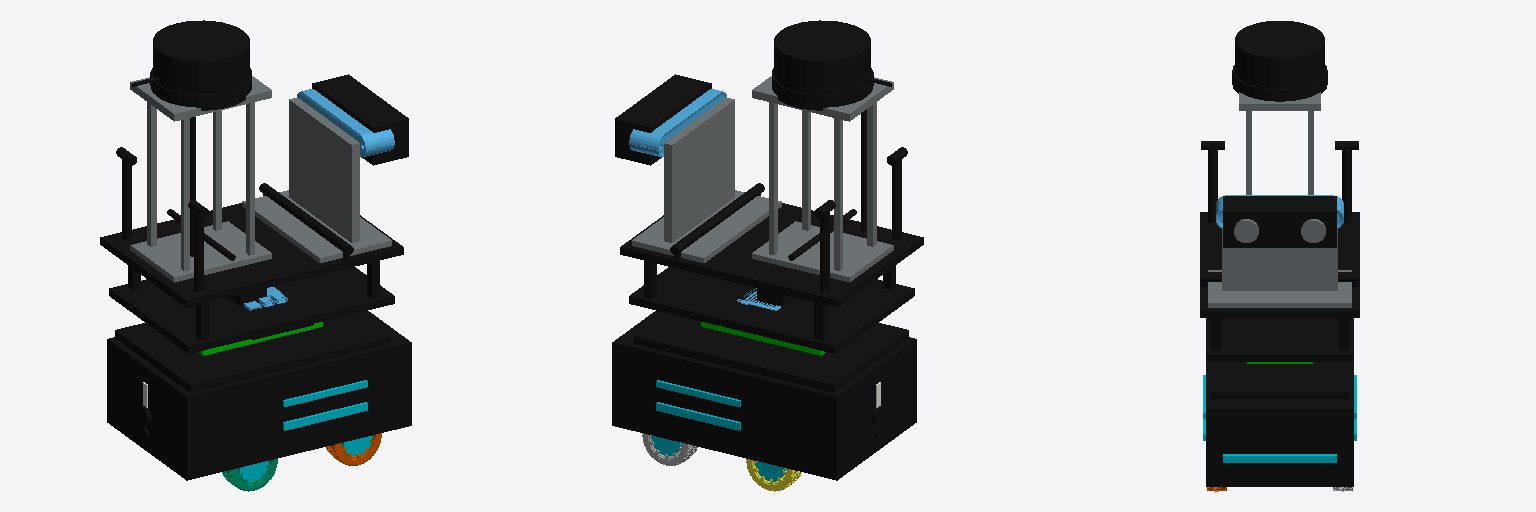
robot.urdf — wheeltec_v550_ackermann:
<?xml version="1.0" ?>
<robot name="wheeltec_v550_ackermann">
  <material name="dark">
    <color rgba="0.1 0.1 0.1 1.0"/>
  </material>
  <material name="green">
    <color rgba="0.0 0.8 0.0 1.0"/>
  </material>
  <material name="red">
    <color rgba="0.8 0.0 0.0 1.0"/>
  </material>
  <material name="mount_gray">
    <color rgba="0.48 0.50 0.51 1.0"/>
  </material>
  <material name="teal">
    <color rgba="0.0 0.78 0.86 1.0"/>
  </material>
  <material name="white_label">
    <color rgba="0.95 0.95 0.92 1.0"/>
  </material>
  <link name="base_footprint">
    <visual>
      <origin xyz="0 0 0" rpy="0 0 0"/>
      <geometry>
        <box size="0.001 0.001 0.001"/>
      </geometry>
    </visual>
  </link>
  <link name="base_link">
    <inertial>
      <origin xyz="-0.010 0 0.095" rpy="0 0 0"/>
      <mass value="12.0"/>
      <inertia ixx="0.18" ixy="0.0" ixz="0.0" iyy="0.24" iyz="0.0" izz="0.32"/>
    </inertial>
    <visual>
      <origin xyz="0 0 0.030" rpy="0 0 0"/>
      <geometry>
        <mesh filename="package://v550_ackermann_description/meshes/base_link.STL"/>
      </geometry>
      <material name="dark"/>
    </visual>
    <visual>
      <origin xyz="0.005 0 0.092" rpy="0 0 0"/>
      <geometry>
        <box size="0.310 0.190 0.110"/>
      </geometry>
      <material name="dark"/>
    </visual>
    <visual>
      <origin xyz="-0.005 0 0.274" rpy="0 0 0"/>
      <geometry>
        <box size="0.300 0.205 0.010"/>
      </geometry>
      <material name="dark"/>
    </visual>
    <visual>
      <origin xyz="0.115 0.082 0.240" rpy="0 0 0"/>
      <geometry>
        <box size="0.012 0.012 0.068"/>
      </geometry>
      <material name="dark"/>
    </visual>
    <visual>
      <origin xyz="0.115 -0.082 0.240" rpy="0 0 0"/>
      <geometry>
        <box size="0.012 0.012 0.068"/>
      </geometry>
      <material name="dark"/>
    </visual>
    <visual>
      <origin xyz="-0.120 0.082 0.240" rpy="0 0 0"/>
      <geometry>
        <box size="0.012 0.012 0.068"/>
      </geometry>
      <material name="dark"/>
    </visual>
    <visual>
      <origin xyz="-0.120 -0.082 0.240" rpy="0 0 0"/>
      <geometry>
        <box size="0.012 0.012 0.068"/>
      </geometry>
      <material name="dark"/>
    </visual>
    <visual>
      <origin xyz="0.040 -0.0965 0.078" rpy="0 0 0"/>
      <geometry>
        <box size="0.115 0.004 0.010"/>
      </geometry>
      <material name="teal"/>
    </visual>
    <visual>
      <origin xyz="0.040 0.0965 0.078" rpy="0 0 0"/>
      <geometry>
        <box size="0.115 0.004 0.010"/>
      </geometry>
      <material name="teal"/>
    </visual>
    <visual>
      <origin xyz="0.161 0 0.078" rpy="0 0 0"/>
      <geometry>
        <box size="0.006 0.145 0.010"/>
      </geometry>
      <material name="teal"/>
    </visual>
    <visual>
      <origin xyz="0.040 -0.0965 0.108" rpy="0 0 0"/>
      <geometry>
        <box size="0.115 0.004 0.008"/>
      </geometry>
      <material name="teal"/>
    </visual>
    <visual>
      <origin xyz="0.040 0.0965 0.108" rpy="0 0 0"/>
      <geometry>
        <box size="0.115 0.004 0.008"/>
      </geometry>
      <material name="teal"/>
    </visual>
    <visual>
      <origin xyz="-0.152 0 0.112" rpy="0 1.570796 0"/>
      <geometry>
        <box size="0.030 0.010 0.002"/>
      </geometry>
      <material name="white_label"/>
    </visual>
    <visual>
      <origin xyz="-0.153 0 0.085" rpy="0 1.570796 0"/>
      <geometry>
        <cylinder radius="0.012" length="0.006"/>
      </geometry>
      <material name="dark"/>
    </visual>
    <visual>
      <origin xyz="-0.153 0 0.062" rpy="0 1.570796 0"/>
      <geometry>
        <cylinder radius="0.007" length="0.004"/>
      </geometry>
      <material name="dark"/>
    </visual>
    <visual>
      <origin xyz="-0.005 0 0.154" rpy="0 0 0"/>
      <geometry>
        <box size="0.275 0.180 0.010"/>
      </geometry>
      <material name="dark"/>
    </visual>
    <visual>
      <origin xyz="0.105 0.072 0.135" rpy="0 0 0"/>
      <geometry>
        <box size="0.010 0.010 0.038"/>
      </geometry>
      <material name="dark"/>
    </visual>
    <visual>
      <origin xyz="0.105 -0.072 0.135" rpy="0 0 0"/>
      <geometry>
        <box size="0.010 0.010 0.038"/>
      </geometry>
      <material name="dark"/>
    </visual>
    <visual>
      <origin xyz="-0.105 0.072 0.135" rpy="0 0 0"/>
      <geometry>
        <box size="0.010 0.010 0.038"/>
      </geometry>
      <material name="dark"/>
    </visual>
    <visual>
      <origin xyz="-0.105 -0.072 0.135" rpy="0 0 0"/>
      <geometry>
        <box size="0.010 0.010 0.038"/>
      </geometry>
      <material name="dark"/>
    </visual>
    <visual>
      <origin xyz="-0.015 0 0.180" rpy="0 0 0"/>
      <geometry>
        <box size="0.165 0.085 0.024"/>
      </geometry>
      <material name="green"/>
    </visual>
    <visual>
      <origin xyz="0.010 -0.044 0.180" rpy="0 0 0"/>
      <geometry>
        <box size="0.085 0.006 0.010"/>
      </geometry>
      <material name="dark"/>
    </visual>
    <visual>
      <origin xyz="-0.020 0 0.205" rpy="0 0 0"/>
      <geometry>
        <box size="0.035 0.060 0.085"/>
      </geometry>
      <material name="dark"/>
    </visual>
    <visual>
      <origin xyz="-0.128 0.086 0.330" rpy="0 0 0"/>
      <geometry>
        <cylinder radius="0.006" length="0.105"/>
      </geometry>
      <material name="dark"/>
    </visual>
    <visual>
      <origin xyz="-0.128 0.086 0.386" rpy="1.570796 0 0"/>
      <geometry>
        <cylinder radius="0.006" length="0.030"/>
      </geometry>
      <material name="dark"/>
    </visual>
    <visual>
      <origin xyz="-0.128 -0.086 0.330" rpy="0 0 0"/>
      <geometry>
        <cylinder radius="0.006" length="0.105"/>
      </geometry>
      <material name="dark"/>
    </visual>
    <visual>
      <origin xyz="-0.128 -0.086 0.386" rpy="1.570796 0 0"/>
      <geometry>
        <cylinder radius="0.006" length="0.030"/>
      </geometry>
      <material name="dark"/>
    </visual>
    <visual>
      <origin xyz="-0.075 0 0.305" rpy="1.570796 0 0"/>
      <geometry>
        <cylinder radius="0.004" length="0.150"/>
      </geometry>
      <material name="dark"/>
    </visual>
    <visual>
      <origin xyz="-0.110 -0.040 0.400" rpy="0 0 0"/>
      <geometry>
        <cylinder radius="0.004" length="0.195"/>
      </geometry>
      <material name="dark"/>
    </visual>
    <visual>
      <origin xyz="0.070 0 0.292" rpy="1.570796 0 0"/>
      <geometry>
        <cylinder radius="0.006" length="0.205"/>
      </geometry>
      <material name="dark"/>
    </visual>
    <visual>
      <origin xyz="0.070 0.096 0.282" rpy="0 0 0"/>
      <geometry>
        <cylinder radius="0.004" length="0.028"/>
      </geometry>
      <material name="dark"/>
    </visual>
    <visual>
      <origin xyz="0.070 -0.096 0.282" rpy="0 0 0"/>
      <geometry>
        <cylinder radius="0.004" length="0.028"/>
      </geometry>
      <material name="dark"/>
    </visual>
    <visual>
      <origin xyz="-0.075 0 0.530" rpy="0 0 0"/>
      <geometry>
        <mesh filename="package://v550_ackermann_description/meshes/laser_link.STL"/>
      </geometry>
      <material name="dark"/>
    </visual>
    <visual>
      <origin xyz="-0.075 0 0.282" rpy="0 0 0"/>
      <geometry>
        <box size="0.135 0.105 0.008"/>
      </geometry>
      <material name="mount_gray"/>
    </visual>
    <visual>
      <origin xyz="-0.030 0.040 0.390" rpy="0 0 0"/>
      <geometry>
        <box size="0.008 0.008 0.210"/>
      </geometry>
      <material name="mount_gray"/>
    </visual>
    <visual>
      <origin xyz="-0.030 -0.040 0.390" rpy="0 0 0"/>
      <geometry>
        <box size="0.008 0.008 0.210"/>
      </geometry>
      <material name="mount_gray"/>
    </visual>
    <visual>
      <origin xyz="-0.120 0.040 0.390" rpy="0 0 0"/>
      <geometry>
        <box size="0.008 0.008 0.210"/>
      </geometry>
      <material name="mount_gray"/>
    </visual>
    <visual>
      <origin xyz="-0.120 -0.040 0.390" rpy="0 0 0"/>
      <geometry>
        <box size="0.008 0.008 0.210"/>
      </geometry>
      <material name="mount_gray"/>
    </visual>
    <visual>
      <origin xyz="-0.075 0 0.496" rpy="0 0 0"/>
      <geometry>
        <box size="0.135 0.105 0.010"/>
      </geometry>
      <material name="mount_gray"/>
    </visual>
    <visual>
      <origin xyz="0.085 0 0.282" rpy="0 0 0"/>
      <geometry>
        <box size="0.100 0.185 0.008"/>
      </geometry>
      <material name="mount_gray"/>
    </visual>
    <visual>
      <origin xyz="0.095 0 0.350" rpy="0 0 0"/>
      <geometry>
        <box size="0.012 0.150 0.130"/>
      </geometry>
      <material name="mount_gray"/>
    </visual>
    <visual>
      <origin xyz="0.125 0 0.405" rpy="0 0 0"/>
      <geometry>
        <mesh filename="package://v550_ackermann_description/meshes/camera_link.STL"/>
      </geometry>
    </visual>
    <visual>
      <origin xyz="-0.035 -0.020 0.192" rpy="0 0 0"/>
      <geometry>
        <mesh filename="package://v550_ackermann_description/meshes/controller_link.STL"/>
      </geometry>
    </visual>
    <visual>
      <origin xyz="-0.005 0 0.208" rpy="0 0 0"/>
      <geometry>
        <box size="0.285 0.190 0.010"/>
      </geometry>
      <material name="dark"/>
    </visual>
    <visual>
      <origin xyz="0.145 0 0.405" rpy="0 0 0"/>
      <geometry>
        <box size="0.050 0.145 0.050"/>
      </geometry>
      <material name="dark"/>
    </visual>
    <visual>
      <origin xyz="0.172 0.043 0.405" rpy="0 1.570796 0"/>
      <geometry>
        <cylinder radius="0.016" length="0.008"/>
      </geometry>
      <material name="mount_gray"/>
    </visual>
    <visual>
      <origin xyz="0.172 -0.043 0.405" rpy="0 1.570796 0"/>
      <geometry>
        <cylinder radius="0.016" length="0.008"/>
      </geometry>
      <material name="mount_gray"/>
    </visual>
    <visual>
      <origin xyz="-0.075 0 0.507" rpy="0 0 0"/>
      <geometry>
        <cylinder radius="0.061" length="0.020"/>
      </geometry>
      <material name="dark"/>
    </visual>
    <visual>
      <origin xyz="-0.075 0 0.538" rpy="0 0 0"/>
      <geometry>
        <cylinder radius="0.058" length="0.045"/>
      </geometry>
      <material name="dark"/>
    </visual>
    <collision>
      <origin xyz="0.005 0 0.107" rpy="0 0 0"/>
      <geometry>
        <box size="0.310 0.190 0.080"/>
      </geometry>
    </collision>
    <collision>
      <origin xyz="0.005 0 0.067" rpy="0 0 0"/>
      <geometry>
        <box size="0.310 0.100 0.050"/>
      </geometry>
    </collision>
  </link>
  <link name="rb_wheel_link">
    <inertial>
      <mass value="0.2"/>
      <inertia ixx="0.0001" ixy="0.0" ixz="0.0" iyy="0.0002" iyz="0.0" izz="0.0001"/>
    </inertial>
    <visual>
      <origin xyz="0 0 0" rpy="0 0 0"/>
      <geometry>
        <mesh filename="package://v550_ackermann_description/meshes/rb_wheel_link.STL"/>
      </geometry>
    </visual>
    <visual>
      <origin xyz="0 -0.011 0" rpy="1.570796 0 0"/>
      <geometry>
        <cylinder radius="0.020" length="0.004"/>
      </geometry>
      <material name="teal"/>
    </visual>
    <collision>
      <origin xyz="0 0 0" rpy="1.570796 0 0"/>
      <geometry>
        <cylinder radius="0.0332" length="0.026"/>
      </geometry>
    </collision>
  </link>
  <link name="lb_wheel_link">
    <inertial>
      <mass value="0.2"/>
      <inertia ixx="0.0001" ixy="0.0" ixz="0.0" iyy="0.0002" iyz="0.0" izz="0.0001"/>
    </inertial>
    <visual>
      <origin xyz="0 0 0" rpy="0 0 0"/>
      <geometry>
        <mesh filename="package://v550_ackermann_description/meshes/lb_wheel_link.STL"/>
      </geometry>
    </visual>
    <visual>
      <origin xyz="0 0.011 0" rpy="1.570796 0 0"/>
      <geometry>
        <cylinder radius="0.020" length="0.004"/>
      </geometry>
      <material name="teal"/>
    </visual>
    <collision>
      <origin xyz="0 0 0" rpy="1.570796 0 0"/>
      <geometry>
        <cylinder radius="0.0332" length="0.026"/>
      </geometry>
    </collision>
  </link>
  <link name="rf_steer_link">
    <inertial>
      <mass value="0.10"/>
      <inertia ixx="0.00005" ixy="0.0" ixz="0.0" iyy="0.00005" iyz="0.0" izz="0.00005"/>
    </inertial>
    <visual>
      <origin xyz="0 0 0" rpy="0 0 0"/>
      <geometry>
        <sphere radius="0.001"/>
      </geometry>
      <material name="dark"/>
    </visual>
  </link>
  <link name="rf_wheel_link">
    <inertial>
      <mass value="0.2"/>
      <inertia ixx="0.0001" ixy="0.0" ixz="0.0" iyy="0.0002" iyz="0.0" izz="0.0001"/>
    </inertial>
    <visual>
      <origin xyz="0 0 0" rpy="0 0 0"/>
      <geometry>
        <mesh filename="package://v550_ackermann_description/meshes/rf_wheel_link.STL"/>
      </geometry>
    </visual>
    <visual>
      <origin xyz="0 -0.011 0" rpy="1.570796 0 0"/>
      <geometry>
        <cylinder radius="0.020" length="0.004"/>
      </geometry>
      <material name="teal"/>
    </visual>
    <collision>
      <origin xyz="0 0 0" rpy="1.570796 0 0"/>
      <geometry>
        <cylinder radius="0.0332" length="0.026"/>
      </geometry>
    </collision>
  </link>
  <link name="lf_steer_link">
    <inertial>
      <mass value="0.10"/>
      <inertia ixx="0.00005" ixy="0.0" ixz="0.0" iyy="0.00005" iyz="0.0" izz="0.00005"/>
    </inertial>
    <visual>
      <origin xyz="0 0 0" rpy="0 0 0"/>
      <geometry>
        <sphere radius="0.001"/>
      </geometry>
      <material name="dark"/>
    </visual>
  </link>
  <link name="lf_wheel_link">
    <inertial>
      <mass value="0.2"/>
      <inertia ixx="0.0001" ixy="0.0" ixz="0.0" iyy="0.0002" iyz="0.0" izz="0.0001"/>
    </inertial>
    <visual>
      <origin xyz="0 0 0" rpy="0 0 0"/>
      <geometry>
        <mesh filename="package://v550_ackermann_description/meshes/lf_wheel_link.STL"/>
      </geometry>
    </visual>
    <visual>
      <origin xyz="0 0.011 0" rpy="1.570796 0 0"/>
      <geometry>
        <cylinder radius="0.020" length="0.004"/>
      </geometry>
      <material name="teal"/>
    </visual>
    <collision>
      <origin xyz="0 0 0" rpy="1.570796 0 0"/>
      <geometry>
        <cylinder radius="0.0332" length="0.026"/>
      </geometry>
    </collision>
  </link>
  <joint name="base_joint" type="fixed">
    <parent link="base_footprint"/>
    <child link="base_link"/>
    <origin xyz="0.0000 0.0000 0.0000" rpy="0 0 0"/>
  </joint>
  <joint name="rb_wheel_joint" type="continuous">
    <limit effort="8.0" velocity="45.0"/>
    <dynamics damping="0.08" friction="0.005"/>
    <parent link="base_link"/>
    <child link="rb_wheel_link"/>
    <origin xyz="-0.05574 -0.08000 0.03320" rpy="0 0 0"/>
    <axis xyz="0 1 0"/>
  </joint>
  <joint name="lb_wheel_joint" type="continuous">
    <limit effort="8.0" velocity="45.0"/>
    <dynamics damping="0.08" friction="0.005"/>
    <parent link="base_link"/>
    <child link="lb_wheel_link"/>
    <origin xyz="-0.05574 0.08000 0.03320" rpy="0 0 0"/>
    <axis xyz="0 1 0"/>
  </joint>
  <joint name="rf_steer_joint" type="revolute">
    <limit lower="-0.45" upper="0.45" effort="8.0" velocity="3.0"/>
    <dynamics damping="0.35" friction="0.10"/>
    <parent link="base_link"/>
    <child link="rf_steer_link"/>
    <origin xyz="0.08751 -0.08000 0.03320" rpy="0 0 0"/>
    <!-- Match Gazebo SDF steering convention. -->
    <axis xyz="0 0 -1"/>
  </joint>
  <joint name="rf_wheel_joint" type="continuous">
    <limit effort="1.0" velocity="45.0"/>
    <dynamics damping="0.03" friction="0.001"/>
    <parent link="rf_steer_link"/>
    <child link="rf_wheel_link"/>
    <origin xyz="0.0000 0.0000 0.0000" rpy="0 0 0"/>
    <axis xyz="0 1 0"/>
  </joint>
  <joint name="lf_steer_joint" type="revolute">
    <limit lower="-0.45" upper="0.45" effort="8.0" velocity="3.0"/>
    <dynamics damping="0.35" friction="0.10"/>
    <parent link="base_link"/>
    <child link="lf_steer_link"/>
    <origin xyz="0.08751 0.08000 0.03320" rpy="0 0 0"/>
    <!-- Match Gazebo SDF steering convention. -->
    <axis xyz="0 0 -1"/>
  </joint>
  <joint name="lf_wheel_joint" type="continuous">
    <limit effort="1.0" velocity="45.0"/>
    <dynamics damping="0.03" friction="0.001"/>
    <parent link="lf_steer_link"/>
    <child link="lf_wheel_link"/>
    <origin xyz="0.0000 0.0000 0.0000" rpy="0 0 0"/>
    <axis xyz="0 1 0"/>
  </joint>
  <link name="base_scan"/>
  <joint name="scan_joint" type="fixed">
    <parent link="base_link"/>
    <child link="base_scan"/>
    <origin xyz="-0.075 0 0.540" rpy="0 0 0"/>
  </joint>

  <gazebo reference="rb_wheel_link">
    <mu1>1.4</mu1>
    <mu2>1.2</mu2>
    <kp>500000.0</kp>
    <kd>100.0</kd>
  </gazebo>
  <gazebo reference="lb_wheel_link">
    <mu1>1.4</mu1>
    <mu2>1.2</mu2>
    <kp>500000.0</kp>
    <kd>100.0</kd>
  </gazebo>
  <gazebo reference="rf_wheel_link">
    <mu1>1.4</mu1>
    <mu2>1.2</mu2>
    <kp>500000.0</kp>
    <kd>100.0</kd>
  </gazebo>
  <gazebo reference="lf_wheel_link">
    <mu1>1.4</mu1>
    <mu2>1.2</mu2>
    <kp>500000.0</kp>
    <kd>100.0</kd>
  </gazebo>
</robot>

--- What the picture shows (computed from the rendered views, not written in the file) ---
The picture shows the robot from 3 angles, left to right: view 1: azimuth 30°, elevation 25°; view 2: azimuth 150°, elevation 25°; view 3: azimuth 270°, elevation 25°; orthographic projection.
Model wheeltec_v550_ackermann with 9 links and 8 joints (2 revolute, 4 continuous, 2 fixed), rooted at base_footprint, posed every joint at zero.
Visible links, largest first — view 1: base_link, rf_wheel_link, rb_wheel_link; view 2: base_link, lf_wheel_link, lb_wheel_link; view 3: base_link.
Boxes of the visible links, x1,y1,x2,y2 form: base_link: (100, 20, 411, 480); rf_wheel_link: (326, 433, 381, 465); rb_wheel_link: (222, 459, 277, 491); base_link: (612, 20, 923, 480); lf_wheel_link: (642, 433, 697, 465); lb_wheel_link: (746, 459, 801, 491); base_link: (1200, 21, 1359, 486).
Bounding box of the posed robot: 0.3457 × 0.205 × 0.561 m (x, y, z).
Meshes: 8 distinct files referenced, 7 mesh visuals loaded (7 binary STL); not drawn: 1 (reference not matched to a file when rendering).
